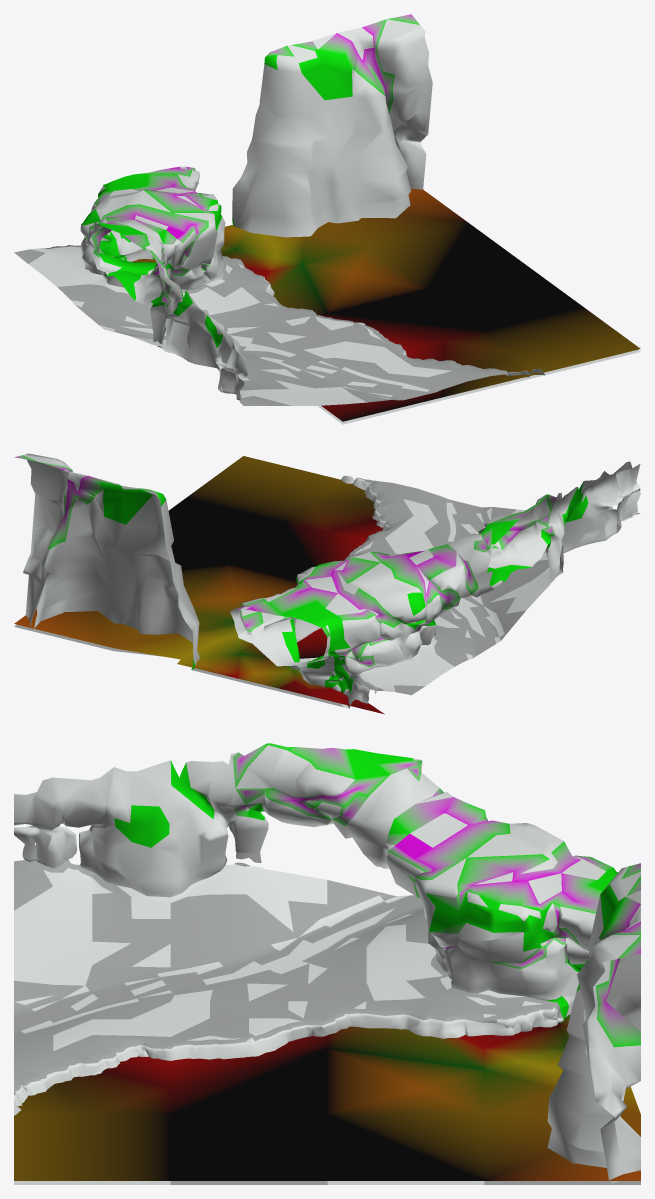
The picture shows the model from 3 angles, top to bottom: view 1: azimuth 30°, elevation 25°; view 2: azimuth 150°, elevation 25°; view 3: azimuth 270°, elevation 25°; orthographic projection. The views are drawn at different scales.
Visible parts, largest first — view 1: G:\FFXIV-MapTools\exports\f1f1\bg\ffxiv\fst_f1\fld\f1f1\bgpl (×14); view 2: G:\FFXIV-MapTools\exports\f1f1\bg\ffxiv\fst_f1\fld\f1f1\bgpl (×13); view 3: G:\FFXIV-MapTools\exports\f1f1\bg\ffxiv\fst_f1\fld\f1f1\bgpl (×16).
Part boxes in pixels (x1,y1,x2,y2): G:\FFXIV-MapTools\exports\f1f1\bg\ffxiv\fst_f1\fld\f1f1\bgpl (×14): (14,14,640,424); G:\FFXIV-MapTools\exports\f1f1\bg\ffxiv\fst_f1\fld\f1f1\bgpl (×13): (14,453,640,714); G:\FFXIV-MapTools\exports\f1f1\bg\ffxiv\fst_f1\fld\f1f1\bgpl (×16): (14,743,640,1184).
Bounding box in the file's own units: 128 × 52.83 × 128.
